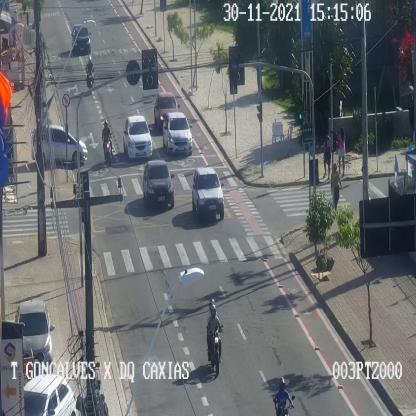car: (16, 300, 52, 371), (31, 125, 87, 165), (23, 374, 76, 415), (192, 167, 224, 218), (144, 159, 173, 207), (123, 115, 152, 158), (162, 112, 192, 153), (154, 91, 178, 128), (72, 23, 90, 52)
motorbike: (206, 299, 222, 375), (274, 377, 294, 415), (102, 120, 113, 166), (86, 56, 94, 94)
person: (331, 163, 342, 211), (324, 130, 332, 179), (338, 127, 346, 175)
